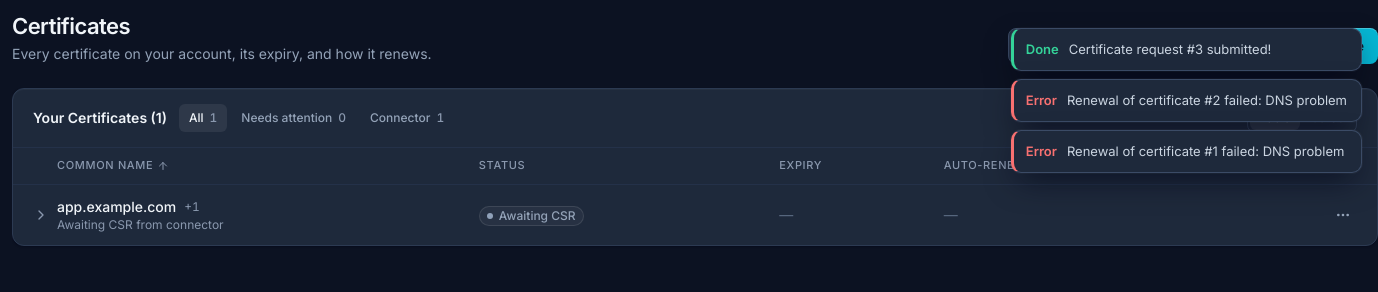
Scenario: CertificateManagement › shows an awaiting_csr certificate by its requested names, with Delete
Click the button named "More actions for app.example.com": (1343, 215) [1329,201,1357,229]
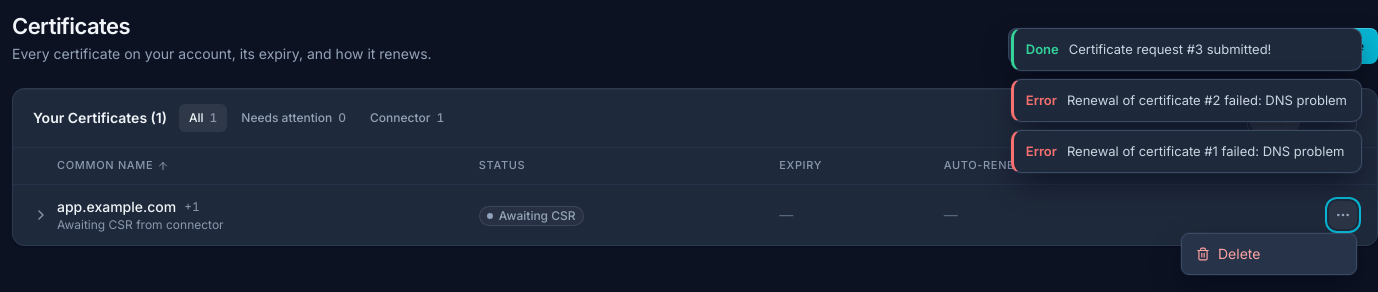
Check: the menu items read "Delete", in this order, box [1186,238,1352,270]
